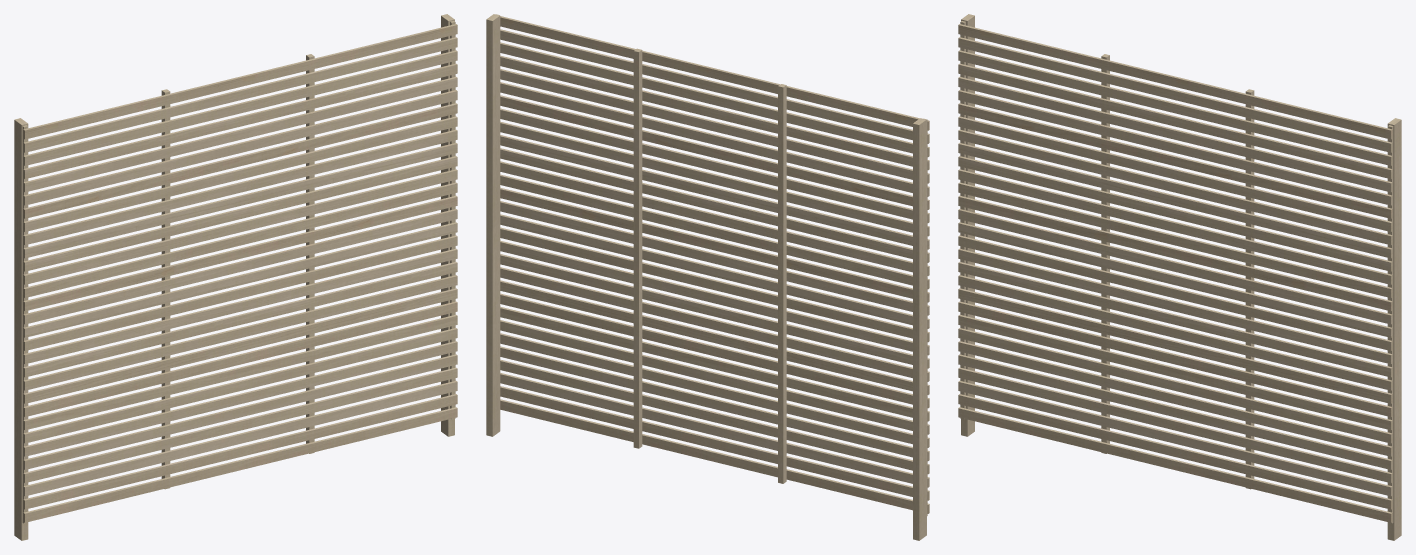
The model's file is EAdesignunitborder_h1835-w1999_springoak.fbx.
The picture shows the model from 3 angles, left to right: view 1: azimuth 30°, elevation 25°; view 2: azimuth 150°, elevation 25°; view 3: azimuth 330°, elevation 25°; orthographic projection.
Parts seen in each view (by area): view 1: EAdesignunitborder_h1835-w1999_springoak; view 2: EAdesignunitborder_h1835-w1999_springoak; view 3: EAdesignunitborder_h1835-w1999_springoak.
Part boxes in pixels (left/top/right/bottom): EAdesignunitborder_h1835-w1999_springoak: left=14, top=14, right=457, bottom=540; EAdesignunitborder_h1835-w1999_springoak: left=486, top=14, right=929, bottom=540; EAdesignunitborder_h1835-w1999_springoak: left=958, top=14, right=1401, bottom=540.
Size of the model in its own units: 200 by 183 by 8.4.
Materials: 1 (1 with a texture image).
